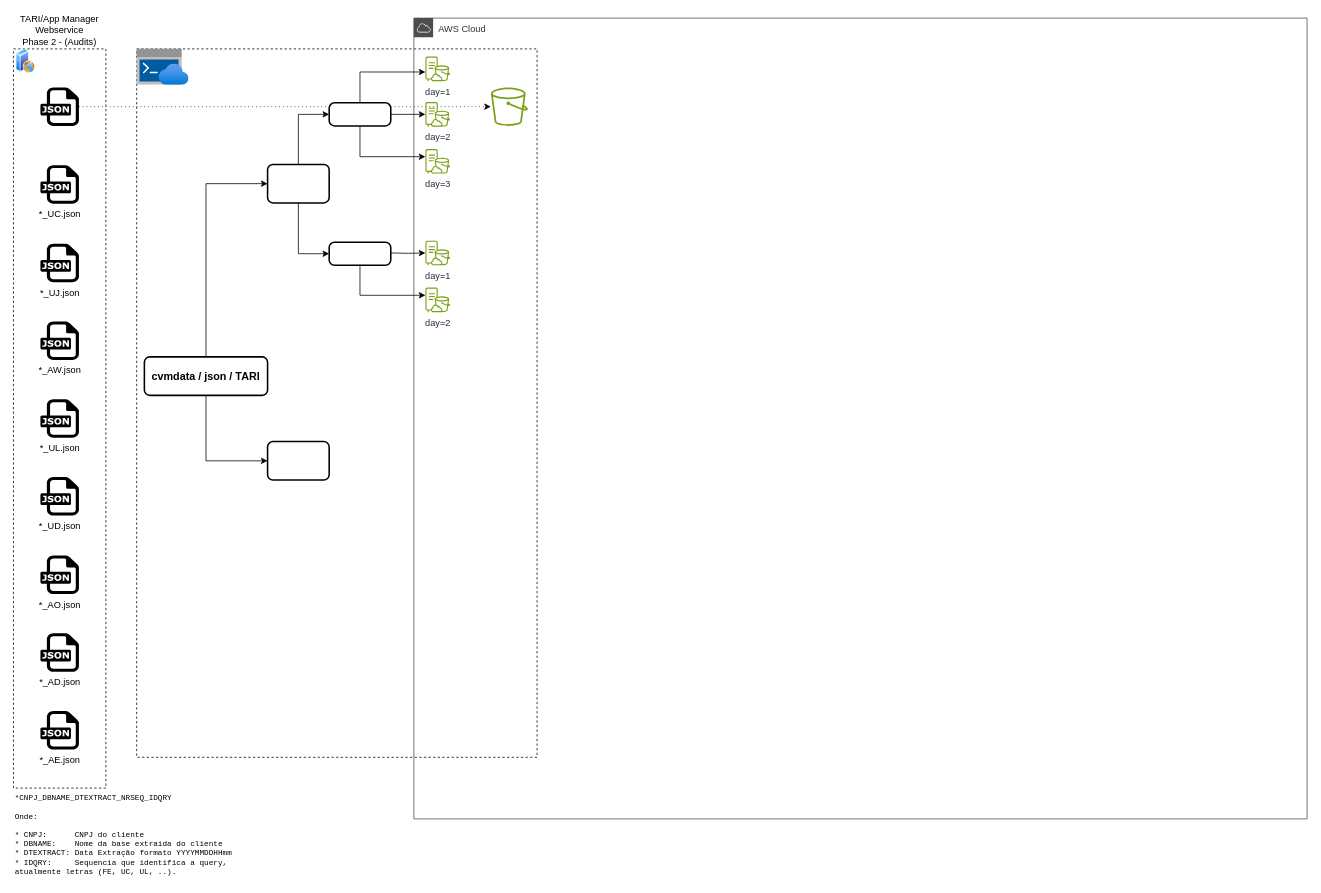
The diagram is 1321 pixels wide and 893 high, and some of its shapes have lost their labels. Here are the shapes that lost their labels. From the top down, the centre of each, then its label:
[59,106]: * _FE.json
[359,114]: month=01
[298,183]: year=2024
[359,253]: month=02
[298,460]: year=2026
